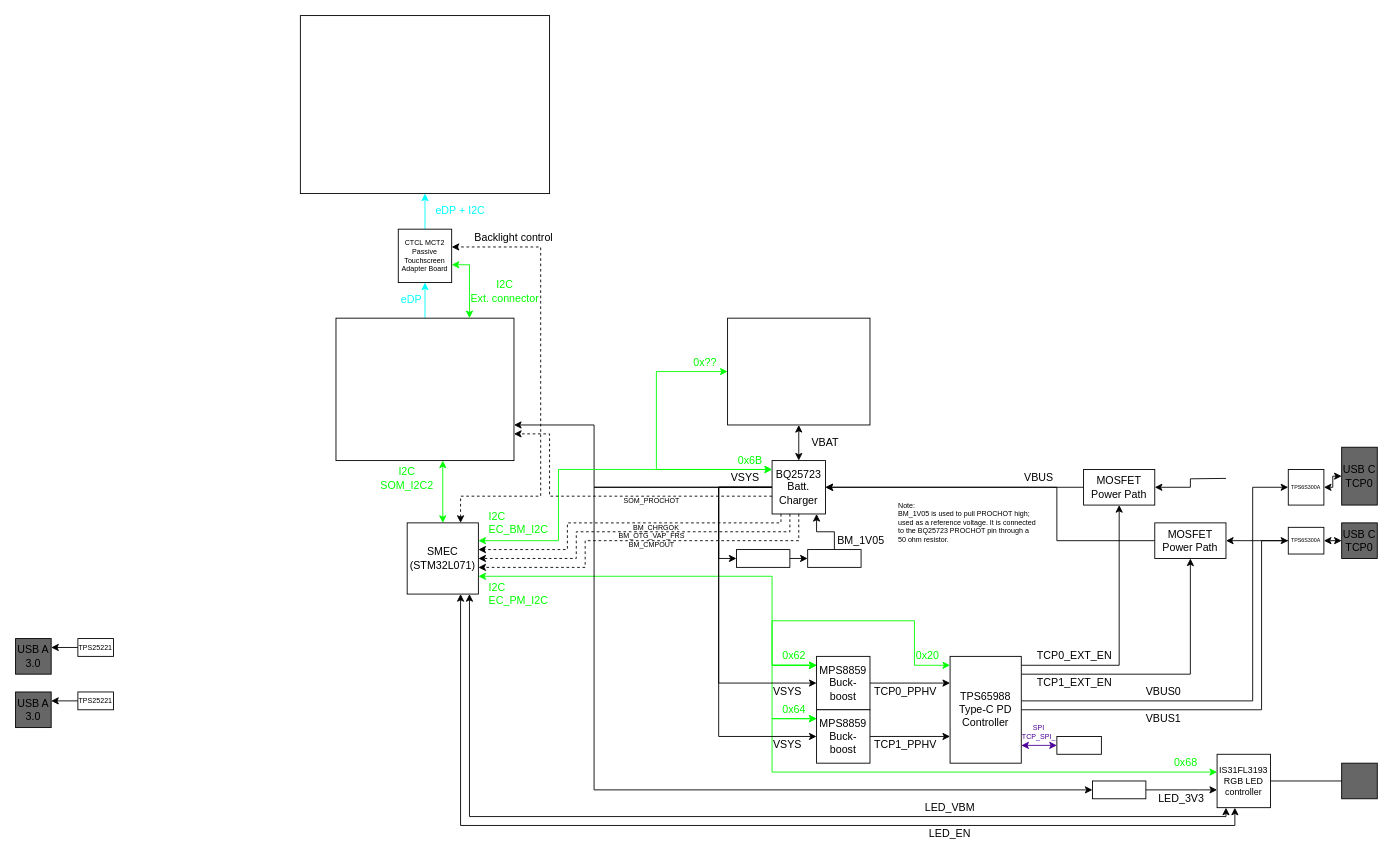
Image size: 1393x859. Some labels were removed from this diagram. Each missing label, with the centre of its shape:
4S2P/4S3P Battery: point 798,371
Innolux N140JCN-GS9 (or equivalent): point 424,104
LattePanda Mu: point 424,389
RGB LED: point 1359,780
TCR3UF105A: point 834,558
TPS560430XF: point 763,558
TPS560430XF Buck Conv.: point 1119,789
W25Q16JVSS or equiv.: point 1078,745
